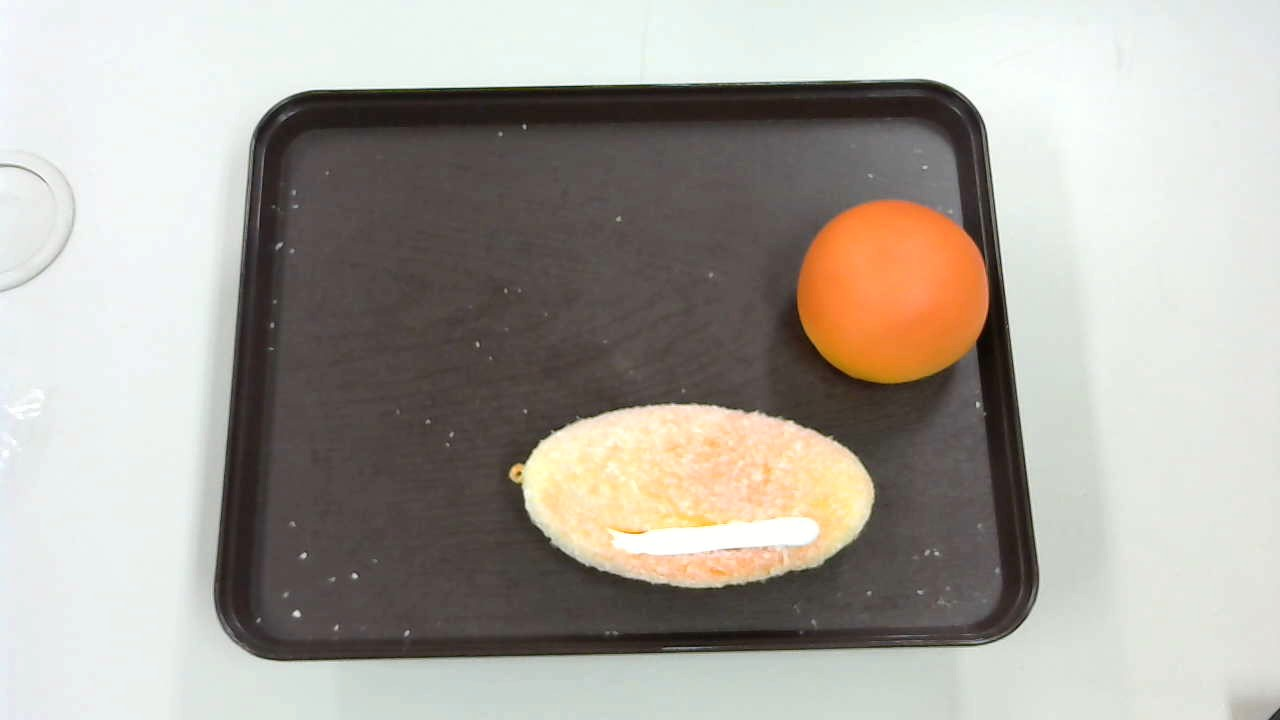bun: (796, 200, 989, 383)
coconut: (509, 401, 874, 589)
